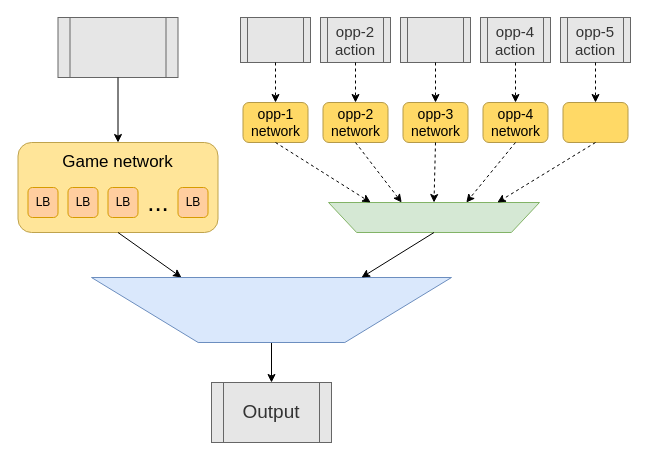
The diagram is 648 pixels wide and 460 high, and some of its shapes have lost their labels. Each missing label, with the centre of its shape:
"Average" goes at point 434,217.
"Decision network" goes at point 271,309.
"General features" goes at point 117,47.
"opp-1 action" goes at point 275,39.
"opp-3 action" goes at point 435,39.
"opp-5 network" goes at point 595,122.
